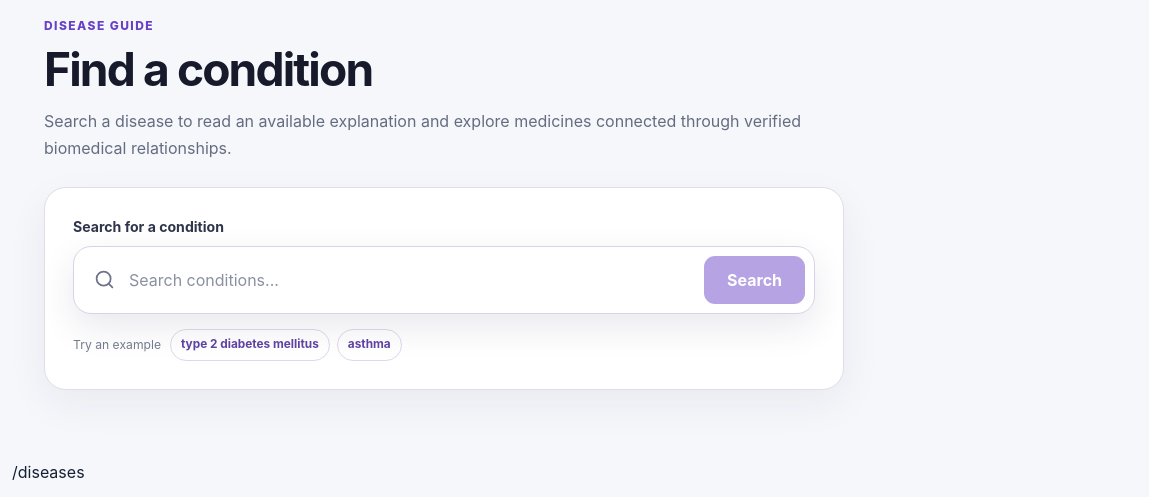
it: DiseaseGuide › debounces live suggestions, hides IDs, and opens the selected condition
Type "diab" into the dropdown labelled "Search for a condition".
click(410, 280); type("diab")  # box 127,267 -> 692,293
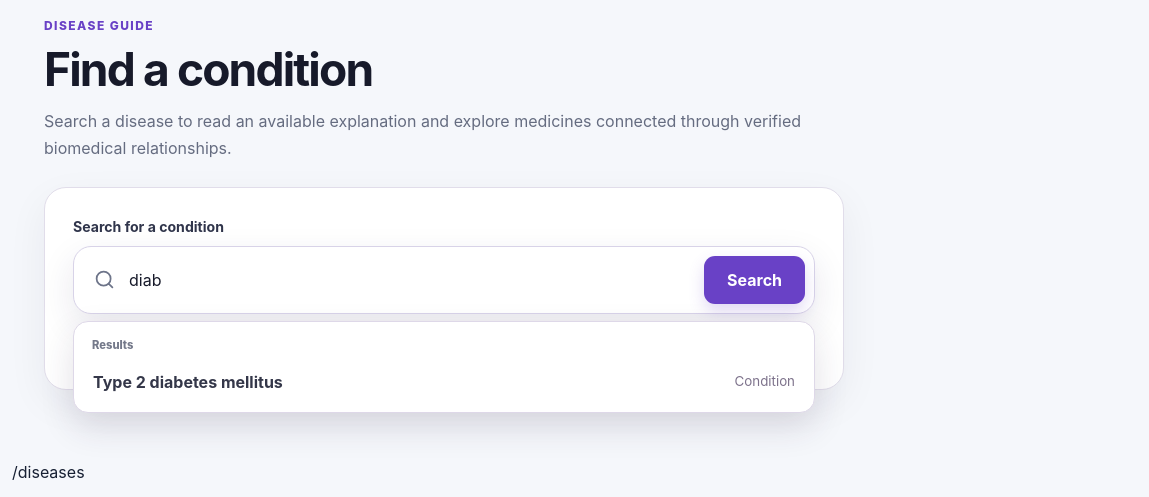
Click the option "Type 2 diabetes mellitus Condition".
click(188, 382)  # box 81,359 -> 807,405
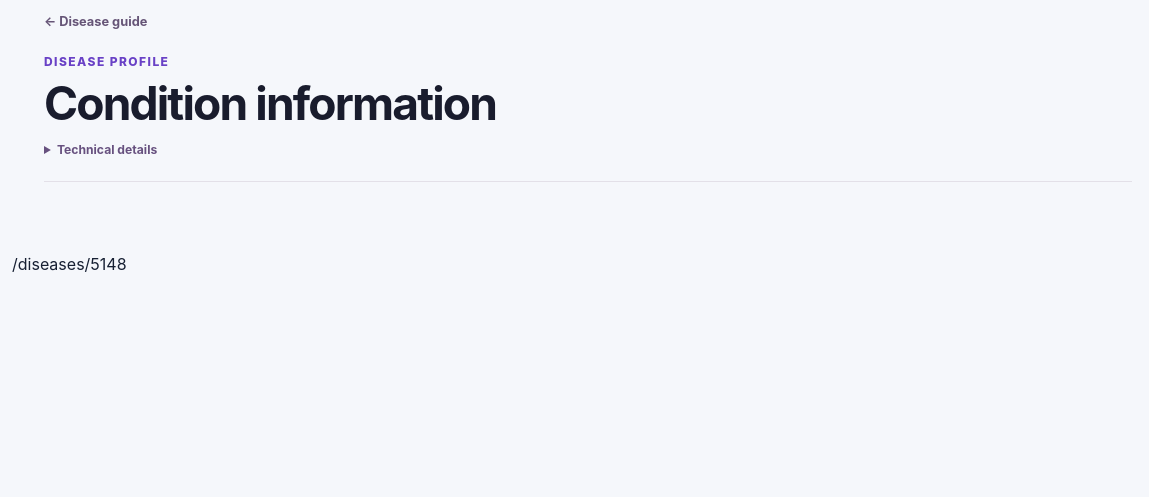
Result: the text with test id "location" reads "/diseases/5148" at 12,254 -> 127,274
